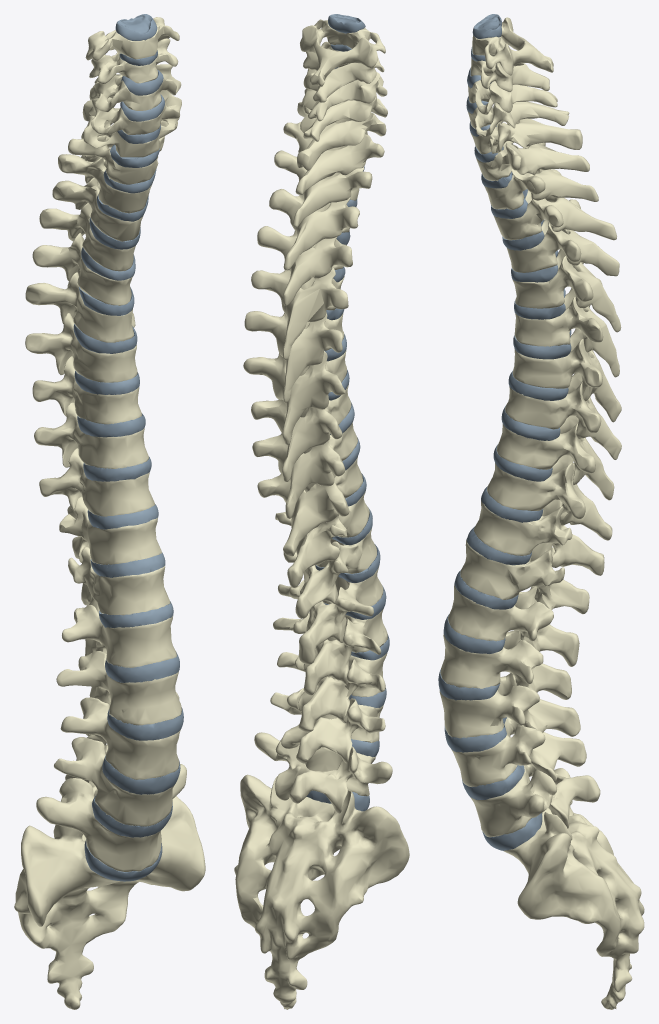
Rendered from spine.fbx.
3 renders of one model, left to right at view 1: azimuth 30°, elevation 25°; view 2: azimuth 150°, elevation 25°; view 3: azimuth 270°, elevation 25°, orthographic. The views are drawn at different scales.
Visible parts, largest first — view 1: Sacrum with spine, Fifth lumbar vertebra, Second lumbar vertebra, Third lumbar vertebra, Fourth lumbar vertebra, First lumbar vertebra, Tenth thoracic vertebra, Twelfth thoracic vertebra, Eleventh thoracic vertebra, Ninth thoracic vertebra, Seventh thoracic vertebra, Eighth thoracic vertebra (+32 smaller); view 2: Sacrum with spine, Fifth lumbar vertebra, Fourth lumbar vertebra, Seventh thoracic vertebra, Third lumbar vertebra, Tenth thoracic vertebra, First lumbar vertebra, Second lumbar vertebra, Ninth thoracic vertebra, Fifth thoracic vertebra, Sixth thoracic vertebra, Eighth thoracic vertebra (+14 smaller); view 3: Sacrum with spine, Third lumbar vertebra, Second lumbar vertebra, First lumbar vertebra, Fifth lumbar vertebra, Twelfth thoracic vertebra, Fourth lumbar vertebra, Eleventh thoracic vertebra, Tenth thoracic vertebra, Ninth thoracic vertebra, Seventh thoracic vertebra, Eighth thoracic vertebra (+26 smaller).
Boxes of the visible parts, x1,y1,x2,y2 form: Sacrum with spine: (14,796,205,1009); Fifth lumbar vertebra: (36,764,186,871); Second lumbar vertebra: (56,651,181,725); Third lumbar vertebra: (60,692,180,779); Fourth lumbar vertebra: (54,735,179,826); First lumbar vertebra: (62,605,176,667); Tenth thoracic vertebra: (39,448,155,519); Twelfth thoracic vertebra: (68,547,170,615); Eleventh thoracic vertebra: (59,496,161,564); Ninth thoracic vertebra: (34,402,148,468); Seventh thoracic vertebra: (25,313,137,382); Eighth thoracic vertebra: (32,356,141,424); Sacrum with spine: (234,774,409,1009); Fifth lumbar vertebra: (254,732,392,813); Fourth lumbar vertebra: (270,688,385,763); Seventh thoracic vertebra: (243,350,347,444); Third lumbar vertebra: (277,652,387,732); Tenth thoracic vertebra: (257,457,362,556); First lumbar vertebra: (278,565,383,664); Second lumbar vertebra: (273,608,387,695); Ninth thoracic vertebra: (252,422,357,518); Fifth thoracic vertebra: (251,267,348,360); Sixth thoracic vertebra: (244,311,344,402); Eighth thoracic vertebra: (251,384,351,481); Sacrum with spine: (503,768,644,1009); Third lumbar vertebra: (439,673,580,738); Second lumbar vertebra: (440,630,571,699); First lumbar vertebra: (448,585,579,666); Fifth lumbar vertebra: (470,764,600,837); Twelfth thoracic vertebra: (460,539,589,614); Fourth lumbar vertebra: (451,717,586,786); Eleventh thoracic vertebra: (474,499,604,575); Tenth thoracic vertebra: (487,455,612,540); Ninth thoracic vertebra: (496,415,614,500); Seventh thoracic vertebra: (512,328,621,422); Eighth thoracic vertebra: (505,372,621,459).
Bounding box in the file's own units: 1178 × 6670 × 1261.
